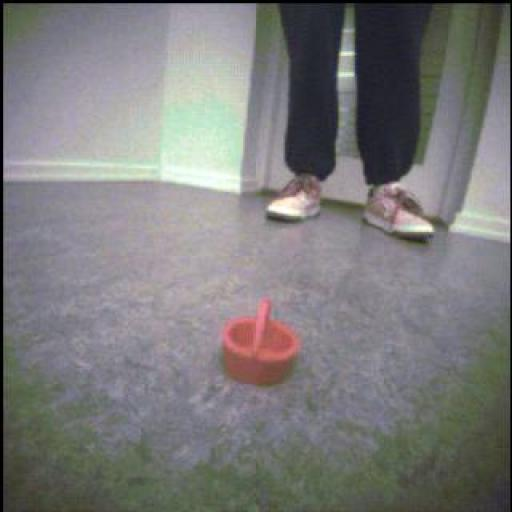Bucket: (223, 300, 302, 387)
